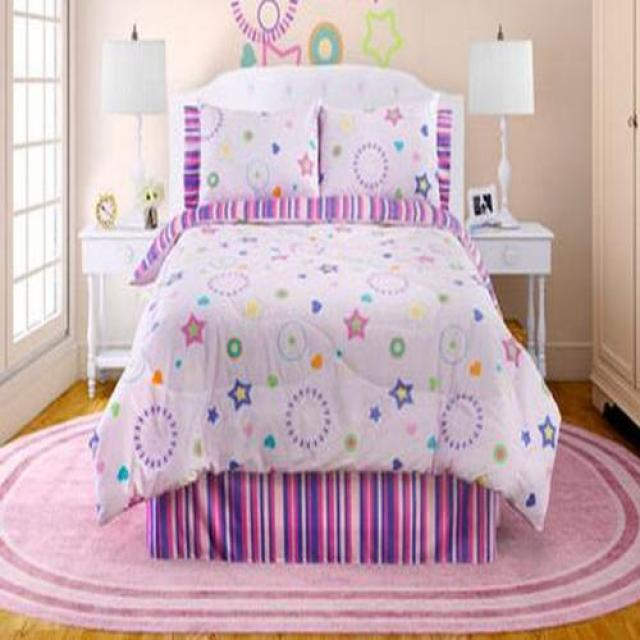bed: (87, 65, 563, 564)
